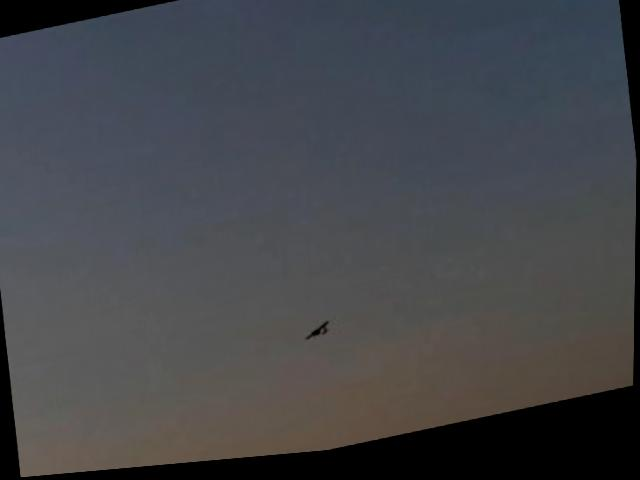uav: (298, 314, 339, 352)
